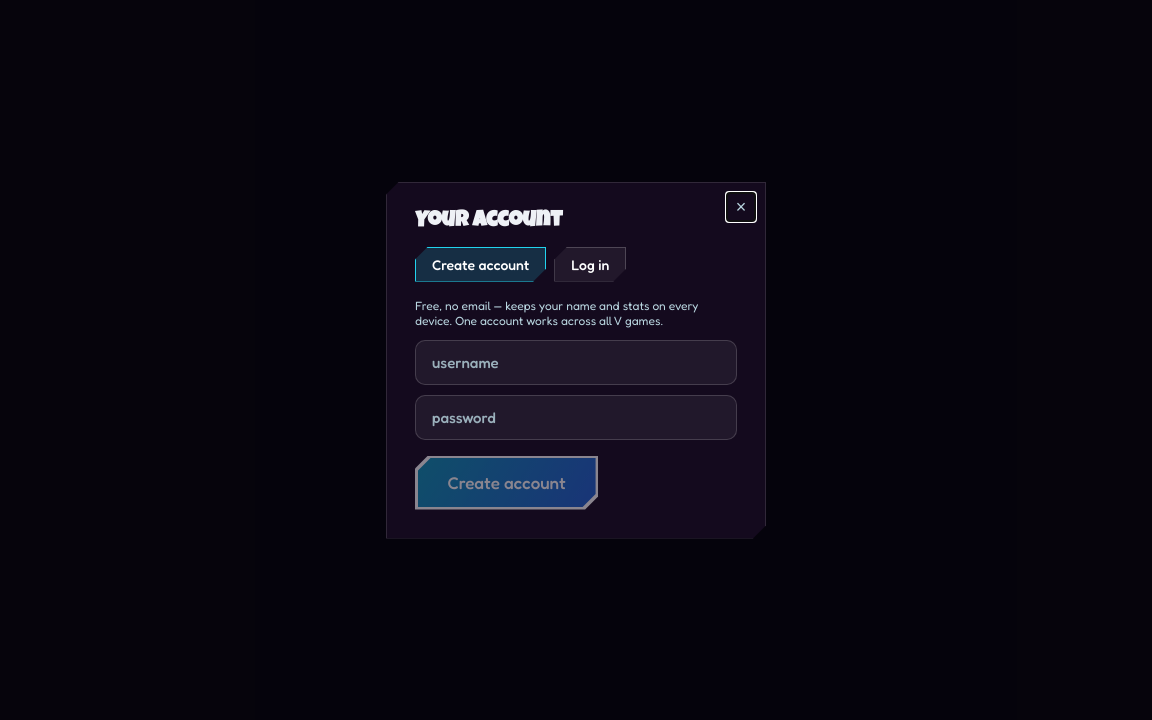
Test: a claim collision (username taken) shows an inline error and does not reflect a new identity
The width and height of the screenshot is (1152, 720).
In the field labelled "username": (576, 362) [415, 340, 737, 384], type "alex"
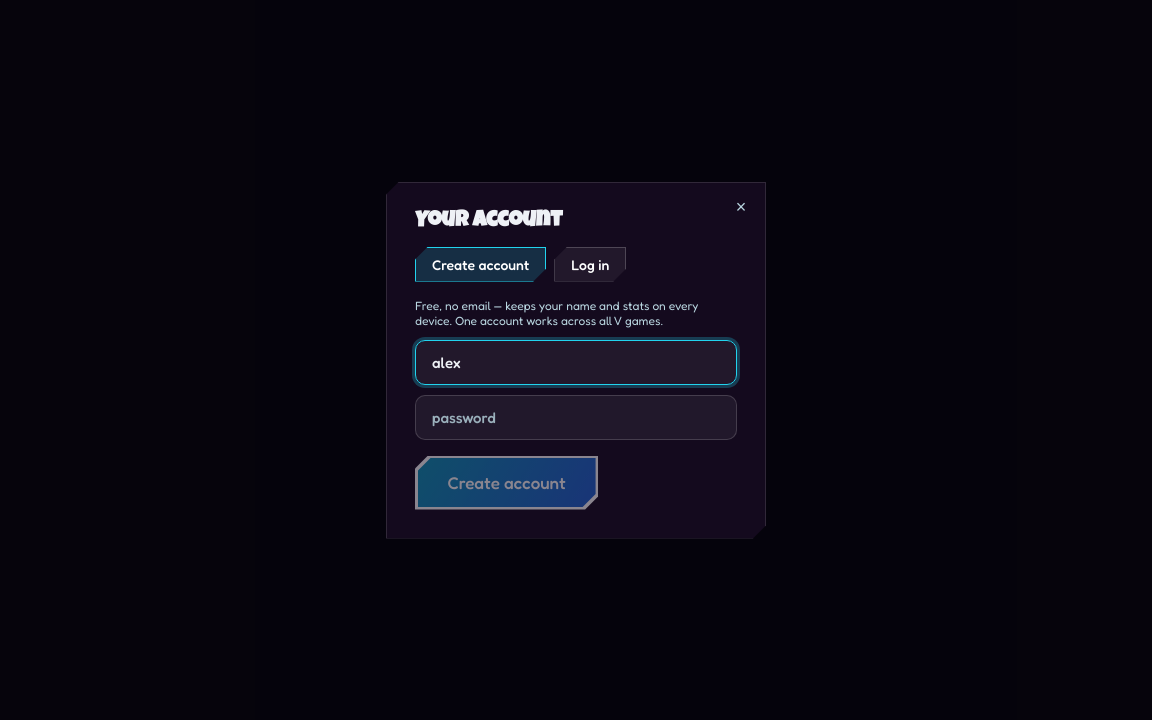
In the password field labelled "password": (576, 417) [415, 394, 737, 440], type "hunter22"
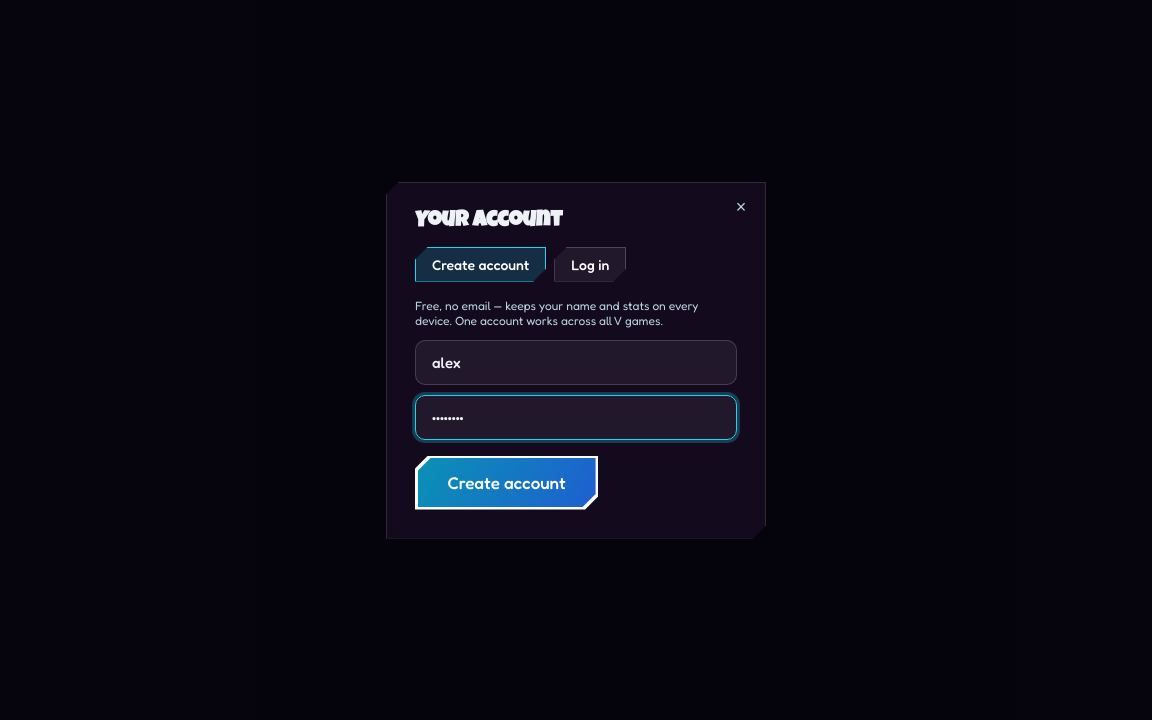
Click the 2nd button "Create account": (507, 482) [415, 456, 598, 510]
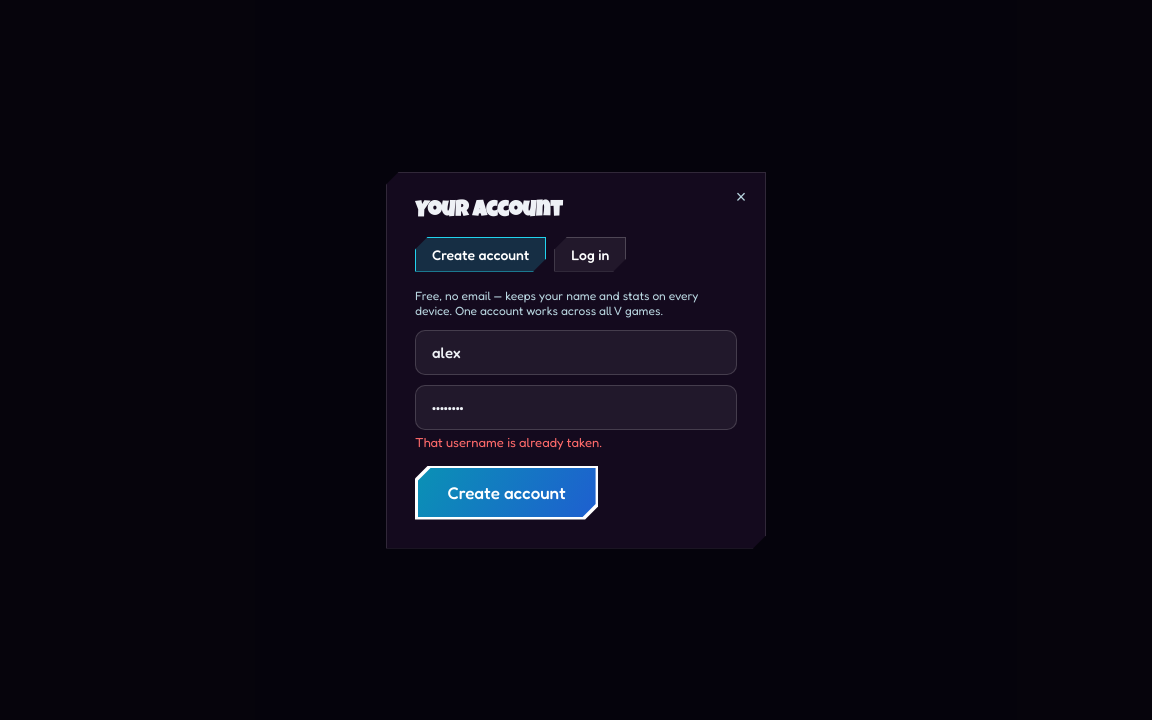
Result: the text "That username is already taken." is shown at [415, 434, 602, 450]
